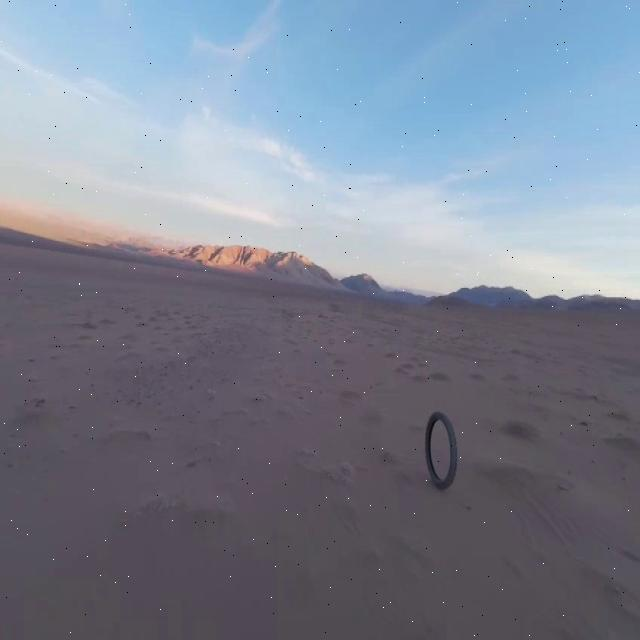Tire: (425, 411, 457, 489)
